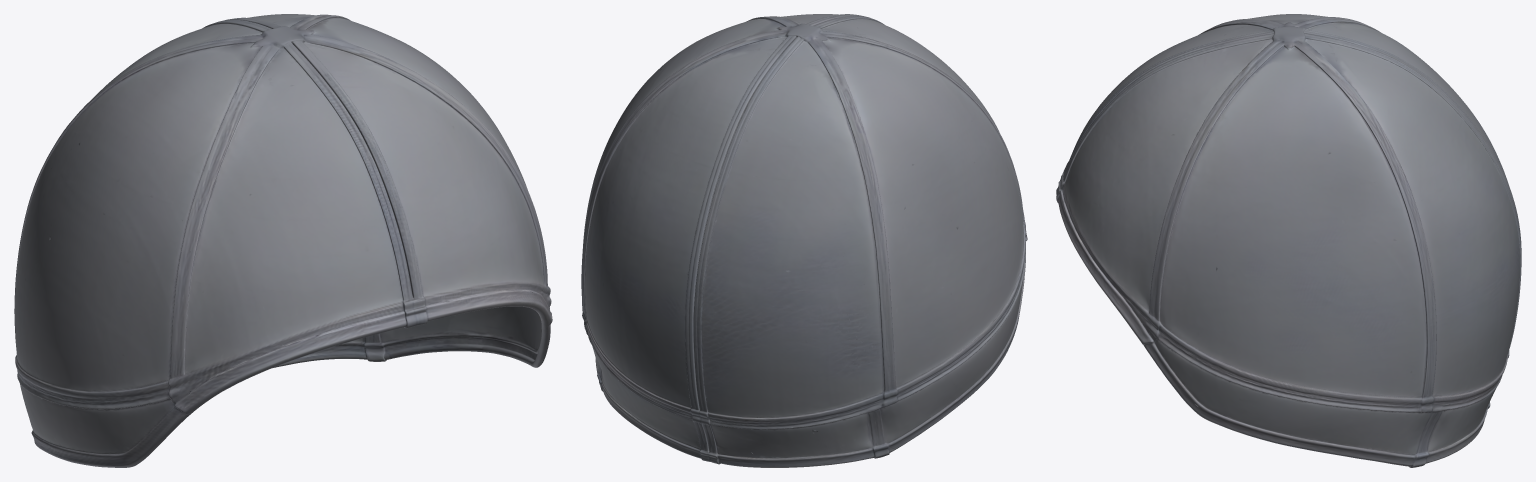
Rendered from gray-swim-cap.glb.
3 views of the same model, side by side, from view 1: azimuth 30°, elevation 25°; view 2: azimuth 150°, elevation 25°; view 3: azimuth 270°, elevation 25° (orthographic). The views are drawn at different scales.
Parts seen in each view (by area): view 1: node_0; view 2: node_0; view 3: node_0.
Part boxes in pixels (x1,y1,x2,y2): node_0: (14,14,552,467); node_0: (581,14,1027,467); node_0: (1056,14,1521,467).
Bounding box in the file's own units: 0.9684 × 0.8819 × 0.9739.
1 material, 1 textured.
